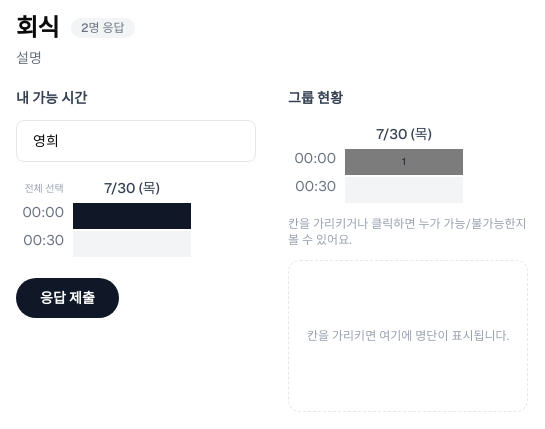
Test: PollView (unsaved changes, FR-17) › clears the flag once the edits are submitted
Press the mouse on the checkbox named "slot-s2": coordinates (132, 244) [72, 230, 192, 258]
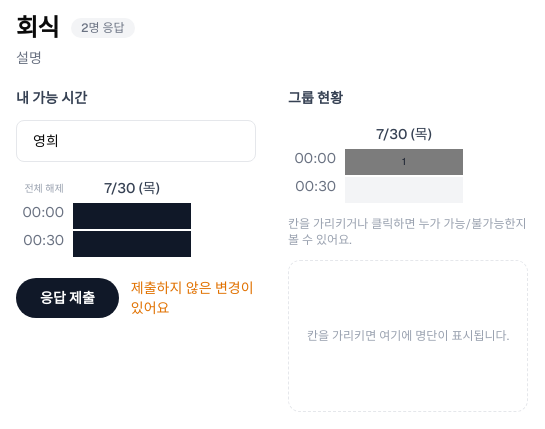
Click the button "응답 제출": coordinates (67, 298) [16, 278, 119, 318]
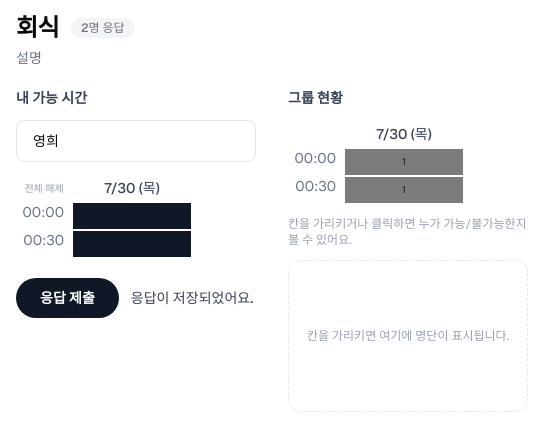
Now the text "제출하지 않은 변경이 있어요" is gone
